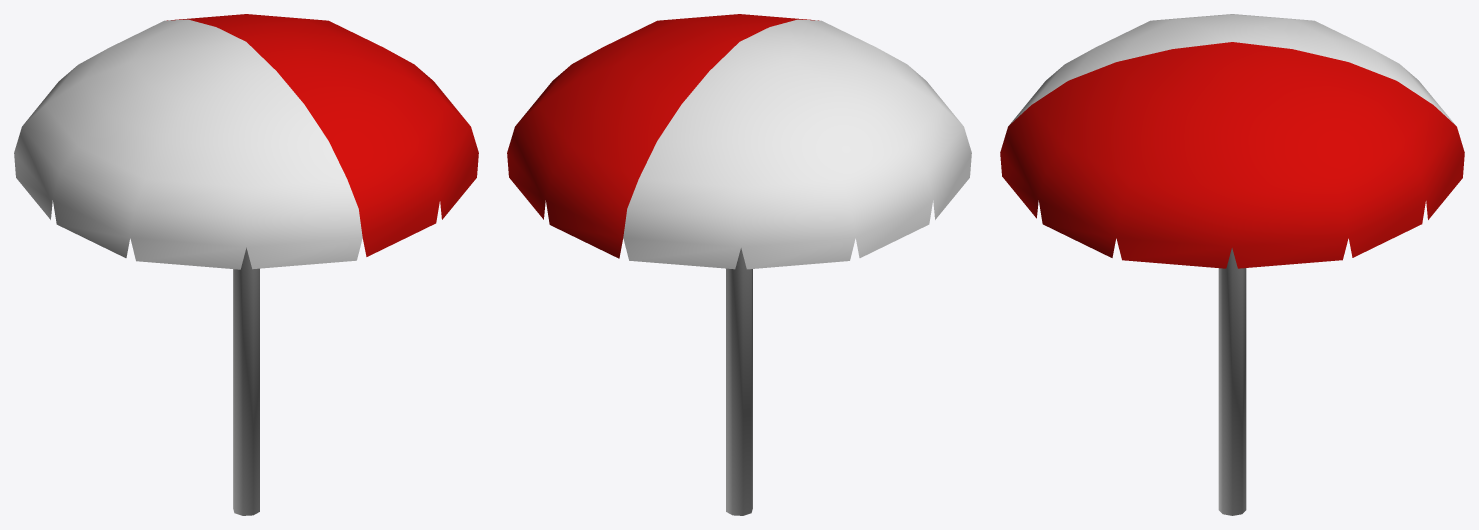
The model's file is Umbrella_Smooth_7.fbx.
The picture shows the model from 3 angles, left to right: view 1: azimuth 30°, elevation 25°; view 2: azimuth 150°, elevation 25°; view 3: azimuth 270°, elevation 25°; orthographic projection.
Parts seen in each view (by area): view 1: Top, Base; view 2: Top, Base; view 3: Top, Base.
Boxes of the visible parts, <box> form: Top: <box>14,14,478,269</box>; Base: <box>233,247,259,515</box>; Top: <box>507,14,971,269</box>; Base: <box>726,248,752,515</box>; Top: <box>1000,14,1464,268</box>; Base: <box>1218,248,1246,515</box>.
Bounding box in the file's own units: 173 × 200 × 180.
